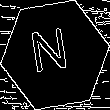N_S: (32, 27, 78, 83)
